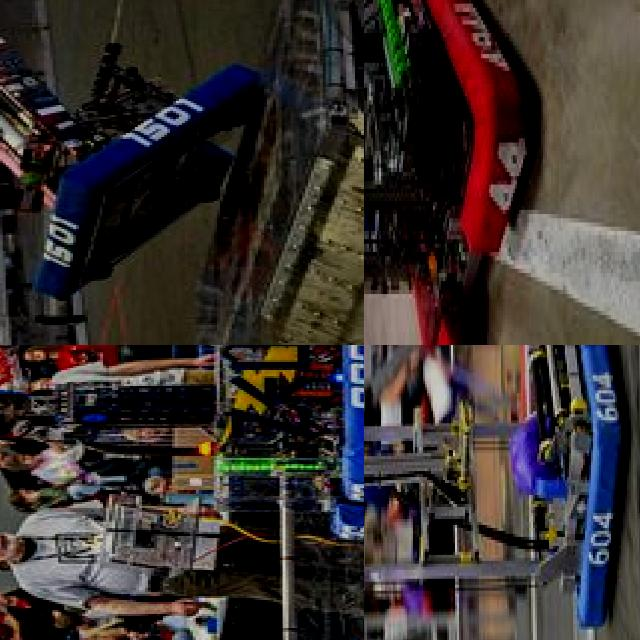FRC-Robots: (0, 1, 262, 311), (364, 345, 627, 640), (364, 0, 544, 345), (0, 345, 364, 512), (413, 345, 549, 478)
